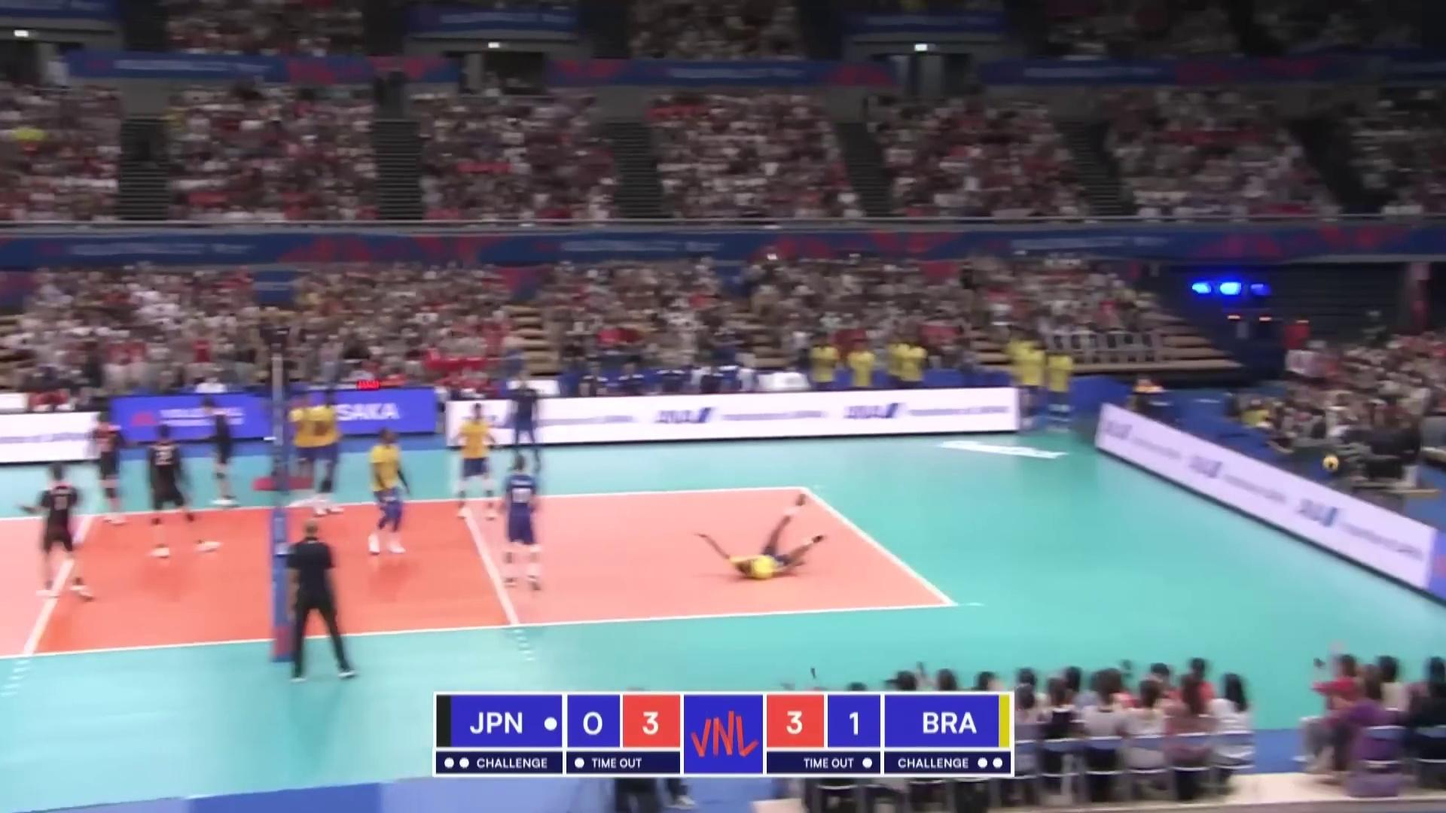player: (691, 492, 830, 582), (24, 466, 92, 602), (149, 421, 218, 555), (361, 429, 410, 555), (497, 454, 542, 591), (453, 401, 497, 520), (89, 413, 129, 527), (203, 396, 241, 507), (313, 393, 346, 518), (291, 395, 322, 510)
refree: (285, 521, 351, 680)
